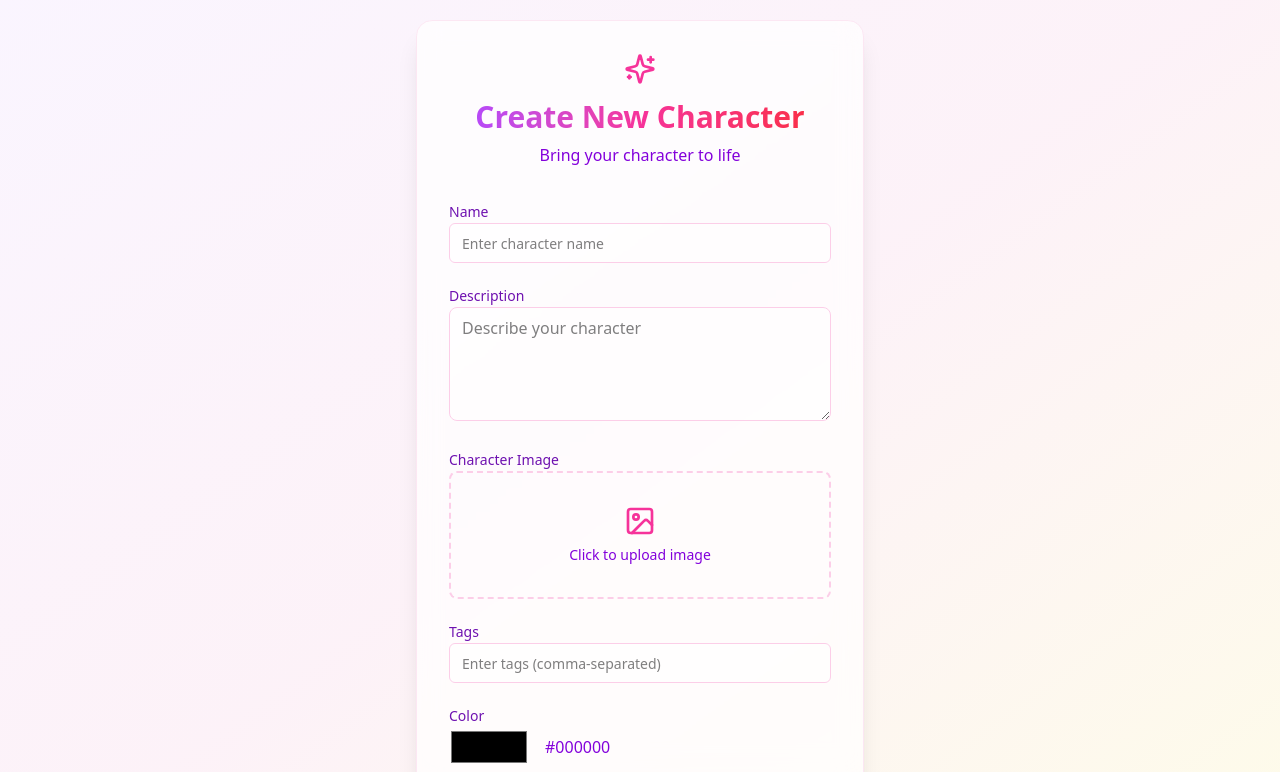
it: AddCharacterPage › shows loading state during submission
The width and height of the screenshot is (1280, 772).
Step 1. Type "Test Character" into the field labelled "Name" → (640, 243), box [449,223,831,263]
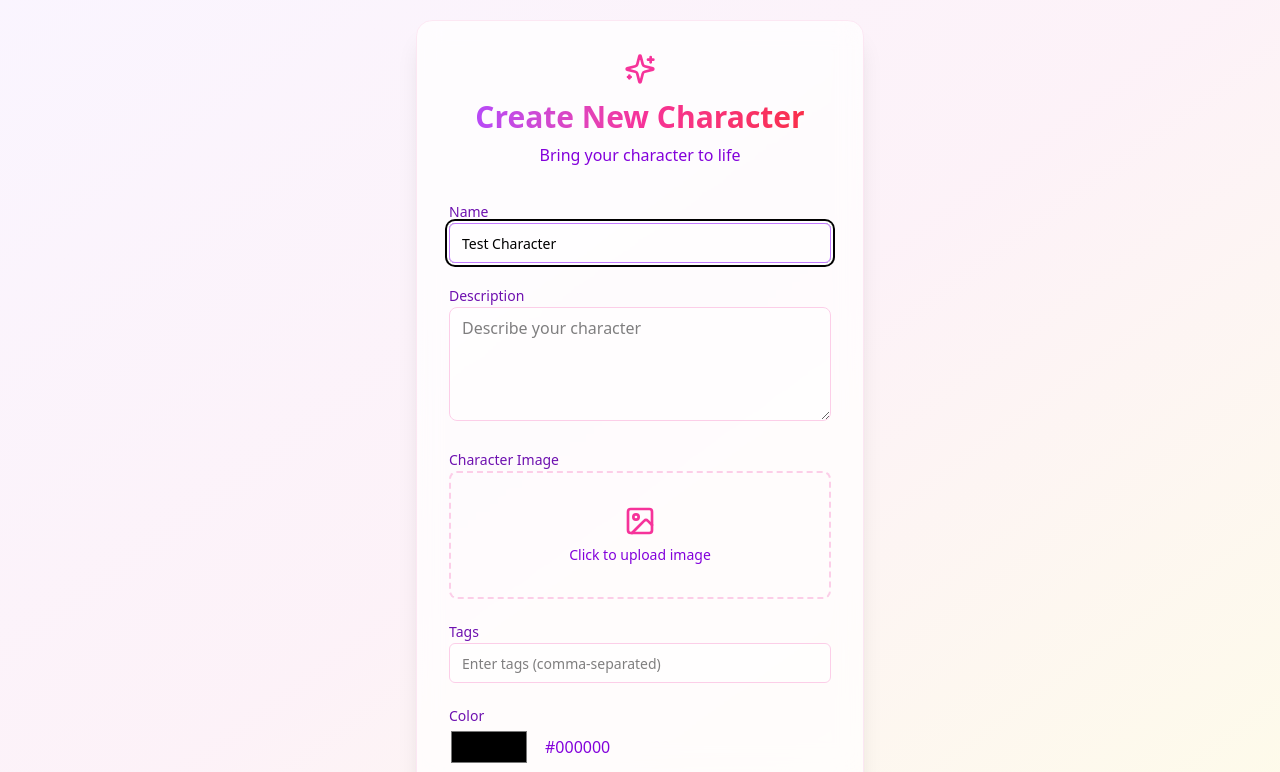
Step 2. Type "Test Description" into the text box labelled "Description" → (640, 364), box [449,307,831,421]
(page scrolled)
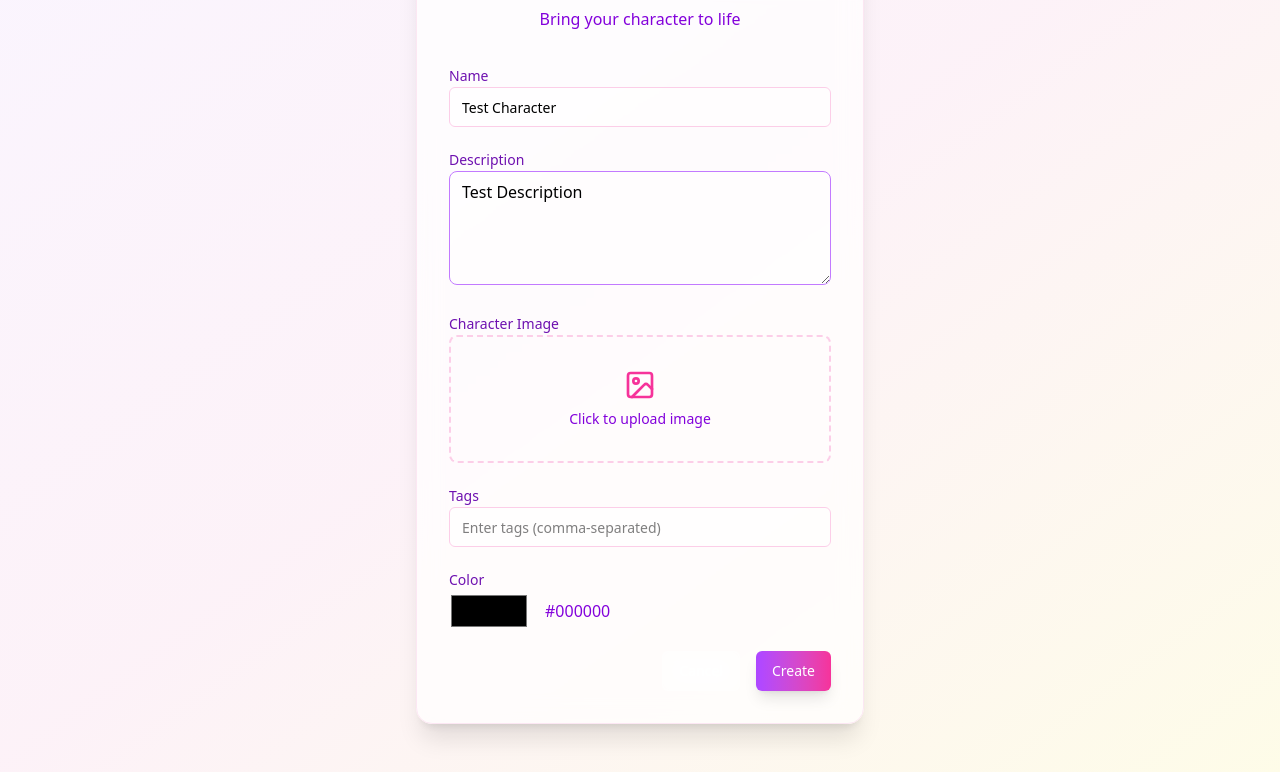
Step 3. Click the button "Create" → click(793, 671), box [756,651,831,691]
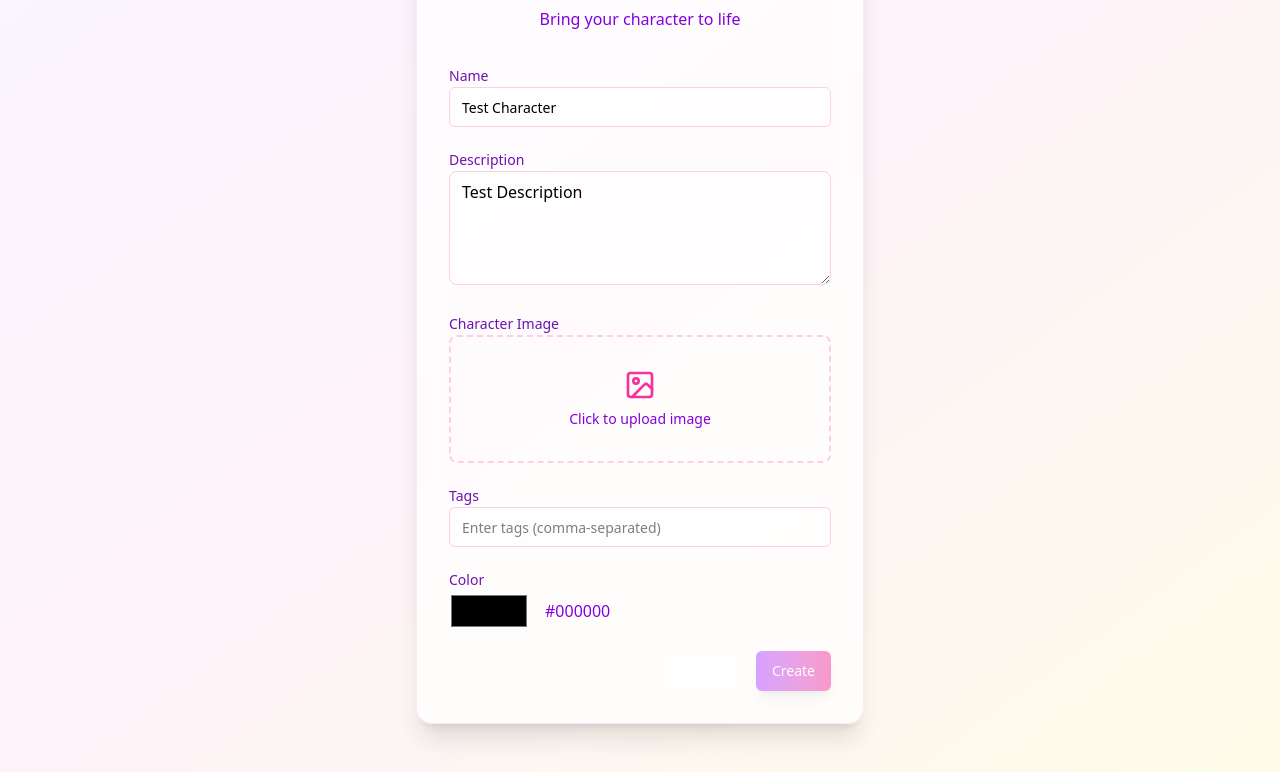
Expected: the button "Create" is disabled, [756,651,831,691]
